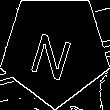N_N: (29, 19, 81, 80)
